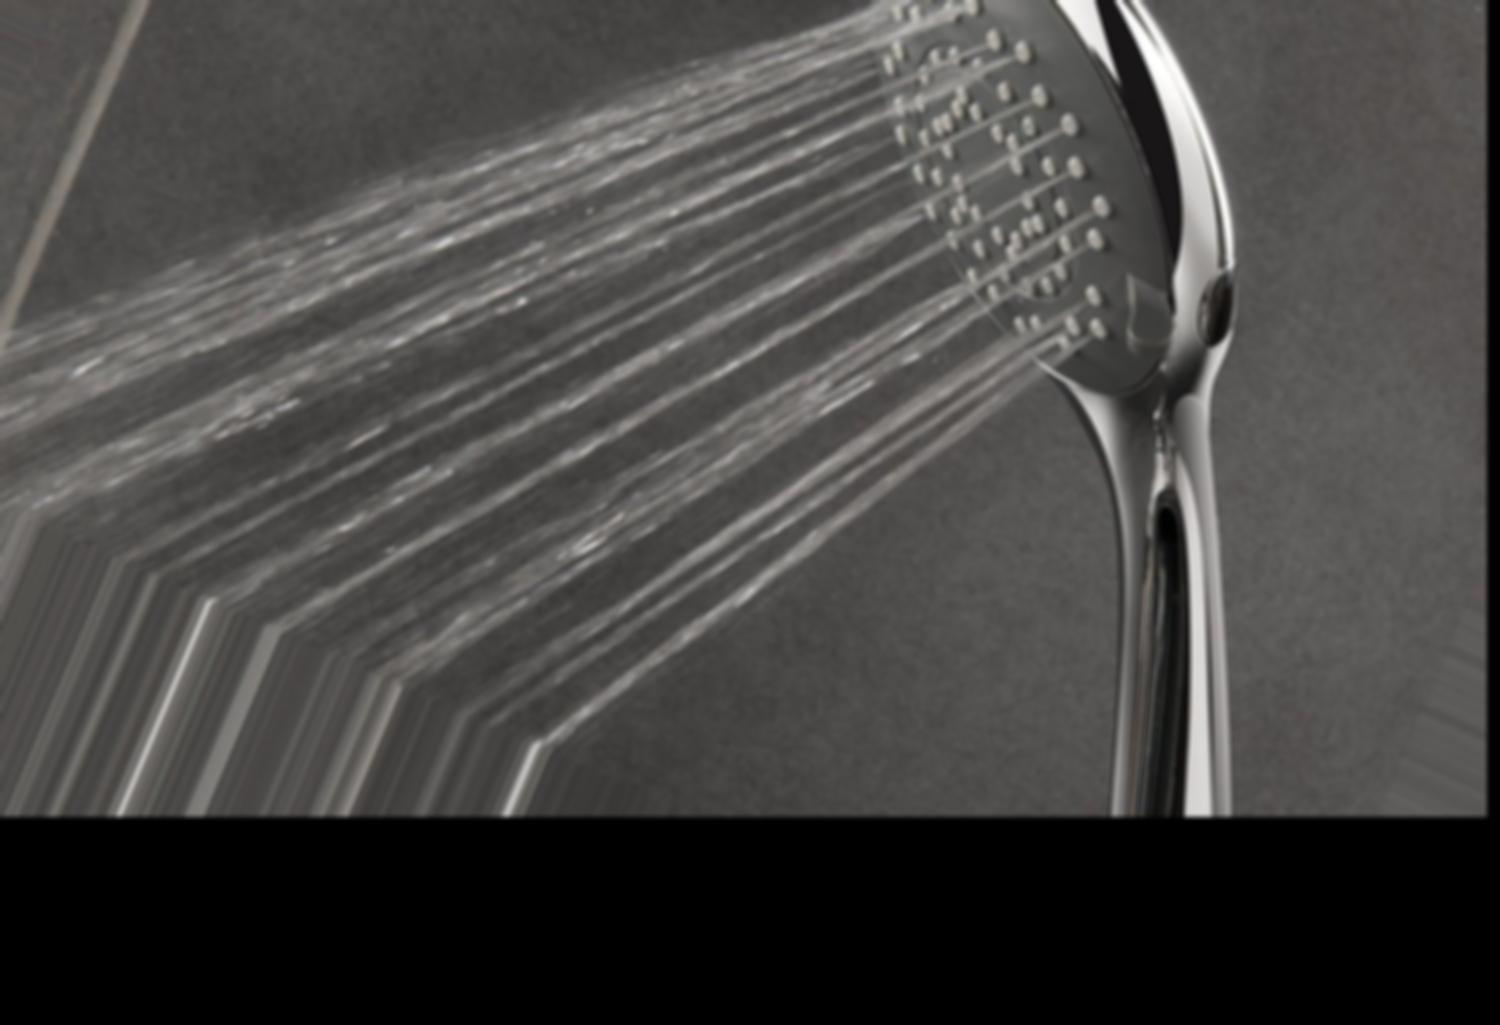Ducha: (0, 0, 1486, 816)
